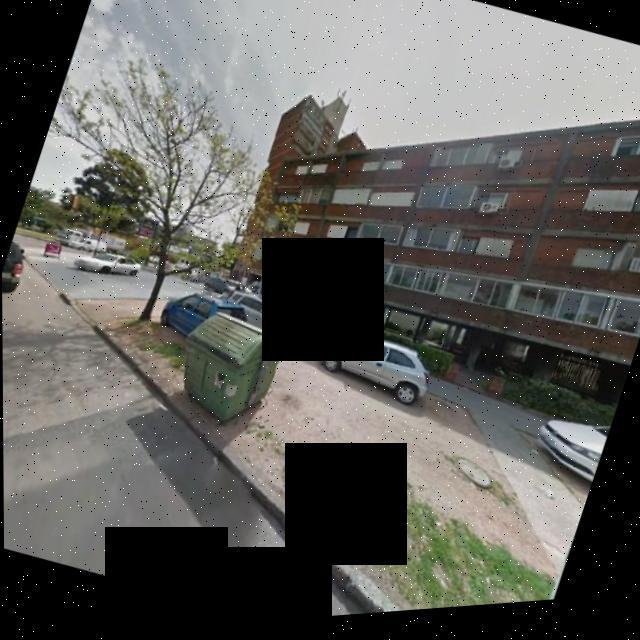bin: (154, 291, 303, 450)
